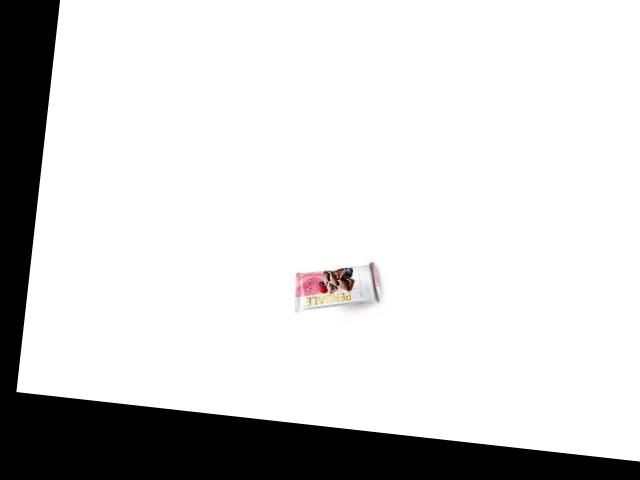chocolate: (292, 251, 381, 321)
